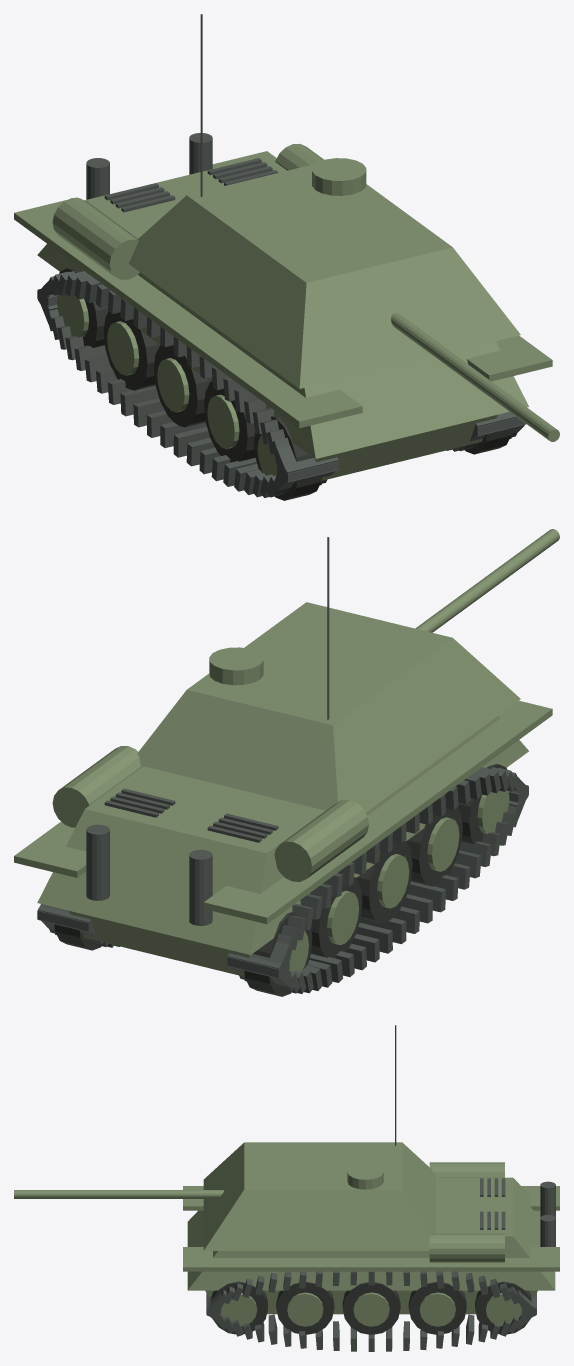
The picture shows the model from 3 angles, top to bottom: view 1: azimuth 30°, elevation 25°; view 2: azimuth 150°, elevation 25°; view 3: azimuth 270°, elevation 25°; orthographic projection. The views are drawn at different scales.
Parts seen in each view (by area): view 1: Casemate, Hull, Fender, ExternalFuel, LowerHull, Gun, Fender.001, Wheel.002, CommanderCupola, Wheel.003, Wheel.001, WheelHub.003 (+11 smaller); view 2: Casemate, Hull, Fender, ExternalFuel, LowerHull, ExternalFuel.001, Gun, Fender.001, Wheel.002, CommanderCupola, Exhaust.001, Wheel.001 (+12 smaller); view 3: Casemate, Hull, Fender.001, ExternalFuel.001, Gun, Wheel.007, Wheel.006, Wheel.008, LowerHull, ExternalFuel, WheelHub.007, WheelHub.006 (+9 smaller).
Boxes of the visible parts, x1,y1,x2,y2 form: Casemate: (128, 164, 520, 388); Hull: (37, 156, 528, 458); Fender: (14, 197, 362, 428); ExternalFuel: (52, 198, 139, 279); LowerHull: (314, 414, 497, 480); Gun: (391, 313, 559, 441); Fender.001: (212, 151, 552, 381); Wheel.002: (153, 344, 209, 427); CommanderCupola: (312, 158, 366, 195); Wheel.003: (103, 311, 159, 390); Wheel.001: (204, 381, 255, 462); WheelHub.003: (107, 321, 139, 375); Casemate: (137, 602, 520, 812); Hull: (37, 715, 528, 954); Fender: (203, 700, 552, 924); ExternalFuel: (274, 800, 368, 881); LowerHull: (69, 911, 252, 976); ExternalFuel.001: (52, 746, 140, 827); Gun: (415, 529, 559, 632); Fender.001: (14, 821, 86, 877); Wheel.002: (356, 841, 412, 923); CommanderCupola: (209, 647, 263, 685); Exhaust.001: (86, 824, 109, 900); Wheel.001: (406, 807, 462, 886); Casemate: (203, 1142, 436, 1250); Hull: (187, 1177, 555, 1290); Fender.001: (183, 1247, 559, 1271); ExternalFuel.001: (429, 1233, 504, 1262); Gun: (14, 1190, 223, 1198); Wheel.007: (342, 1282, 400, 1334); Wheel.006: (276, 1281, 334, 1334); Wheel.008: (408, 1281, 466, 1334); LowerHull: (205, 1290, 537, 1314); ExternalFuel: (429, 1162, 504, 1177); WheelHub.007: (353, 1292, 389, 1326); WheelHub.006: (287, 1292, 323, 1326).
Bounding box in the file's own units: 3.28 × 4.89 × 9.06.
